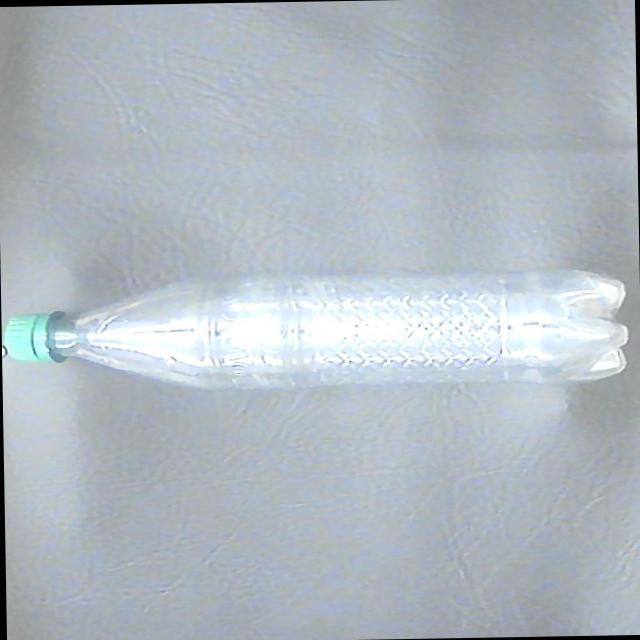good: (1, 262, 632, 398)
